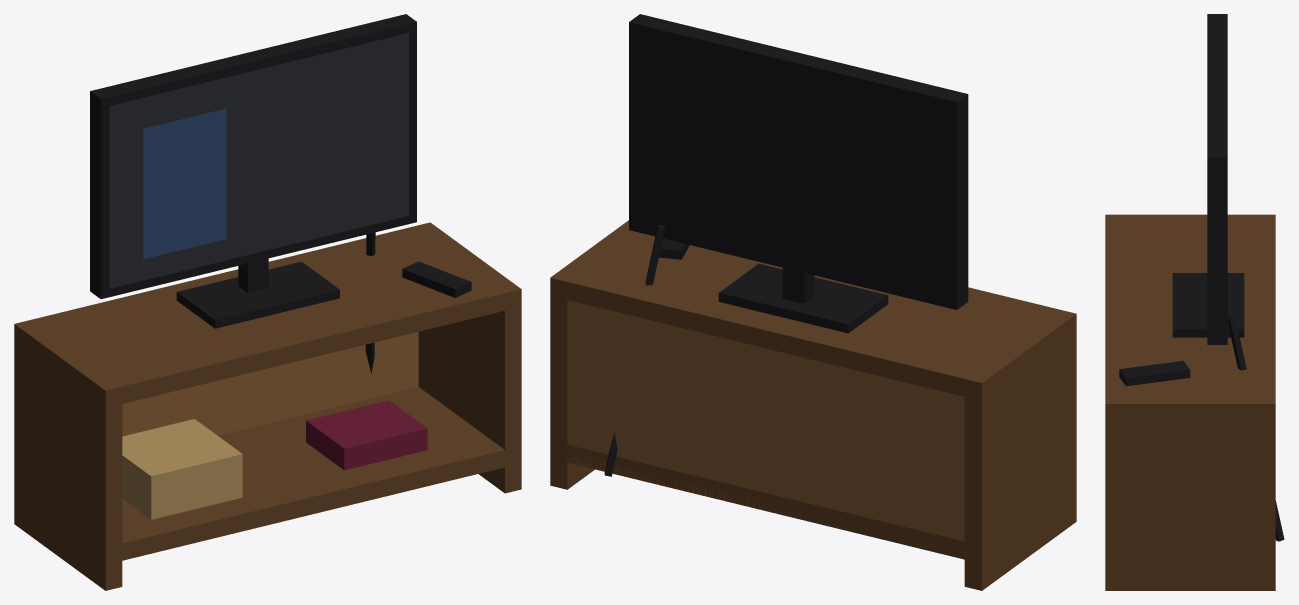
The model's file is prop_tv.fd8ae0726db2.glb.
3 renders of one model, left to right at view 1: azimuth 30°, elevation 25°; view 2: azimuth 150°, elevation 25°; view 3: azimuth 270°, elevation 25°, orthographic. The views are drawn at different scales.
Visible parts, largest first — view 1: body; view 2: body; view 3: body.
Boxes of the visible parts, box(x1,y1,x2,y2) form: body: box(14, 14, 521, 590); body: box(550, 14, 1076, 590); body: box(1105, 14, 1284, 590).
Size of the model in its own units: 1 by 1.01 by 0.3994.
